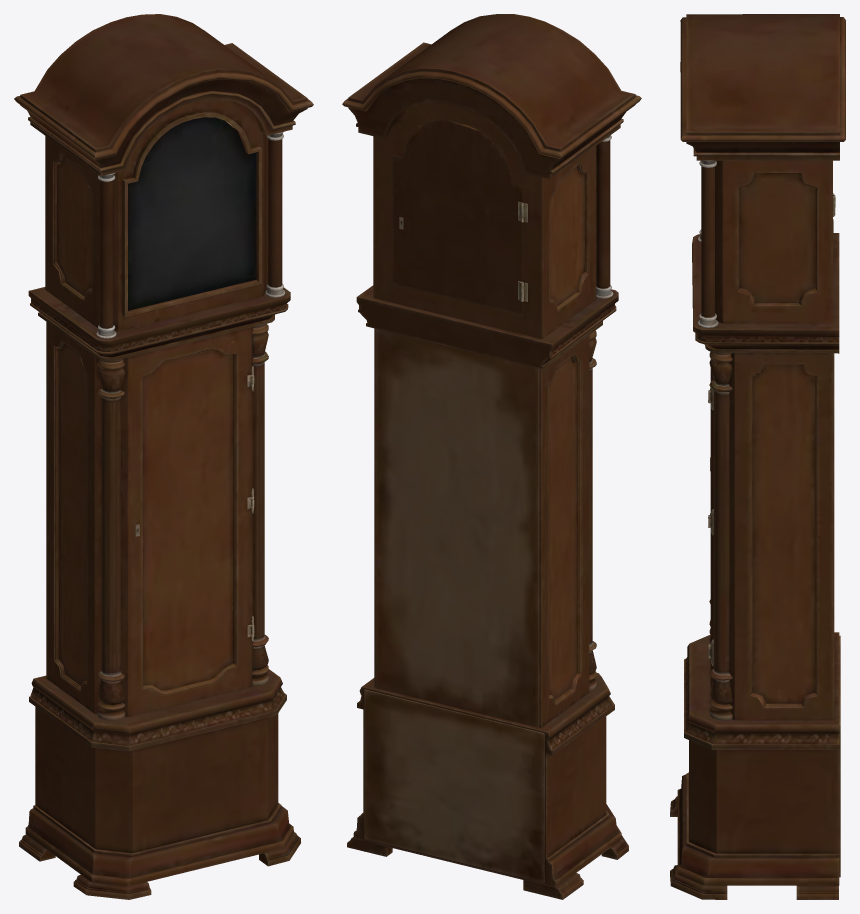
File: grandfather_clock.glb
3 views of the same model, side by side, from view 1: azimuth 30°, elevation 25°; view 2: azimuth 150°, elevation 25°; view 3: azimuth 270°, elevation 25° (orthographic). The views are drawn at different scales.
Visible parts, largest first — view 1: vintage_grandfather_clock_01_Body; view 2: vintage_grandfather_clock_01_Body; view 3: vintage_grandfather_clock_01_Body.
Part boxes in pixels (box(x1,y1,x2,y2)): vintage_grandfather_clock_01_Body: box(14, 14, 313, 899); vintage_grandfather_clock_01_Body: box(342, 14, 641, 899); vintage_grandfather_clock_01_Body: box(670, 14, 845, 899).
Bounding box in the file's own units: 0.6255 × 2.19 × 0.4265.
2 materials, 2 textured.
